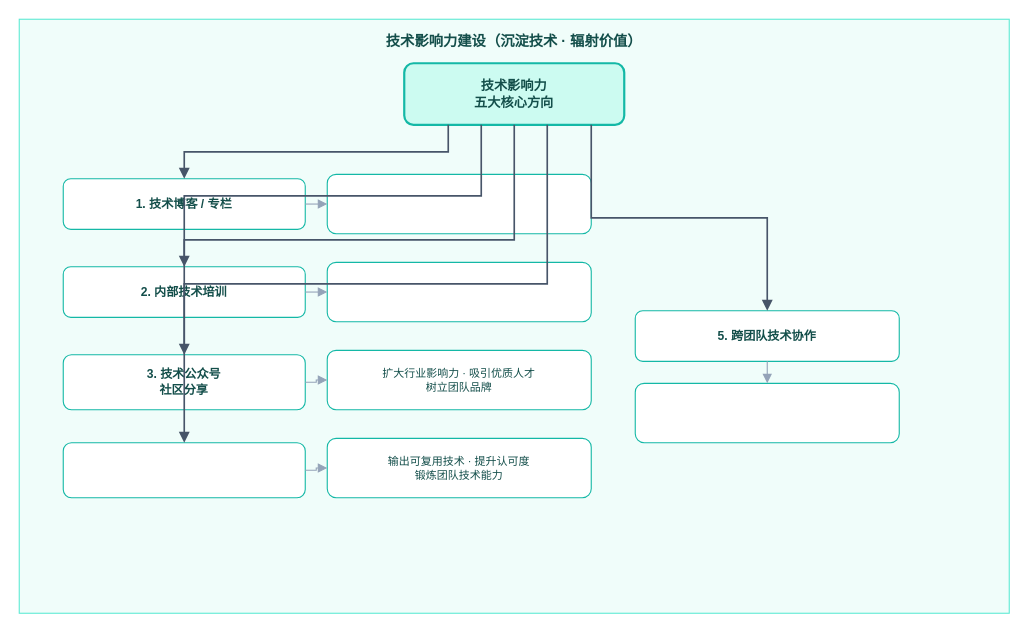
The diagram is 1029 pixels wide and 633 high, and some of its shapes have lost their labels. The shapes that lost their labels are listed below. From the top down, each one's centre as x and y in pixels, then its label:
At (458,203): "沉淀技术经验 提升个人与团队影响力".
At (458,291): "传承技术知识 · 降低培养成本 提升团队整体能力".
At (766,412): "打破跨团队壁垒 输出技术方案 · 提升话语权".
At (183,470): "4. 开源项目 技术组件".
